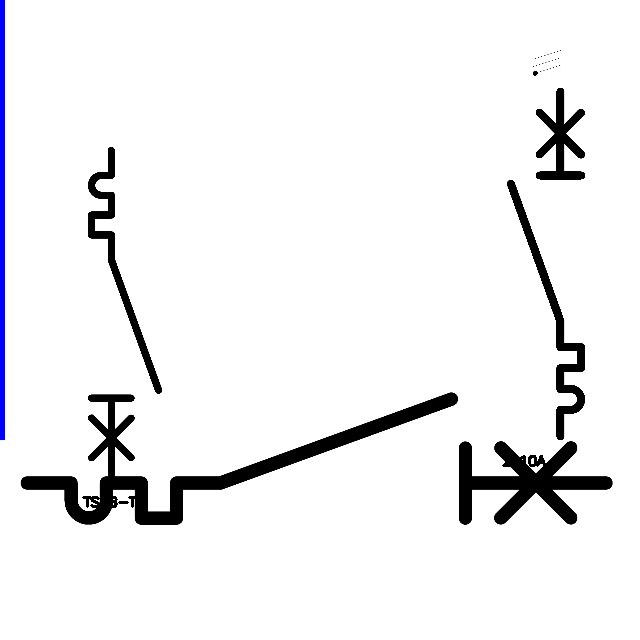interruptor_termomagnetico: (12, 384, 621, 533), (502, 82, 590, 444), (83, 142, 167, 486)
